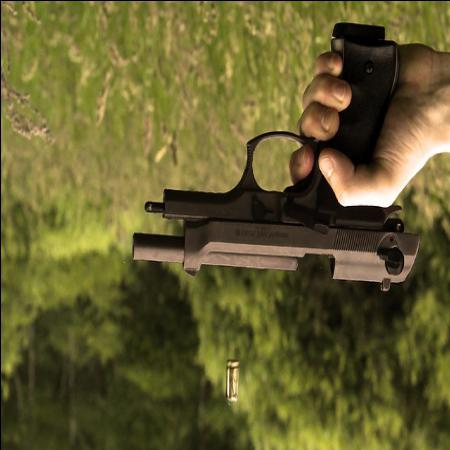Pistol: (130, 23, 420, 290)
